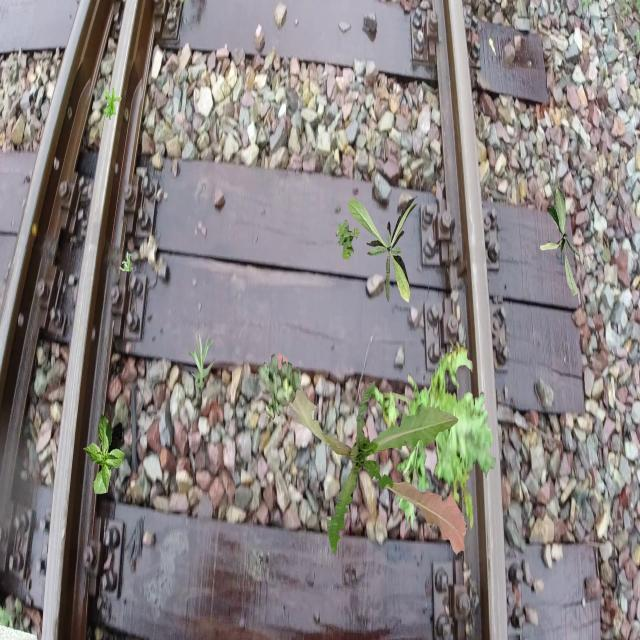Plant: (274, 353, 466, 556), (371, 338, 496, 534), (348, 196, 420, 304), (540, 187, 580, 297), (83, 414, 125, 494), (258, 354, 302, 421), (189, 332, 216, 388), (336, 220, 360, 261), (104, 88, 122, 120), (120, 251, 134, 272)
